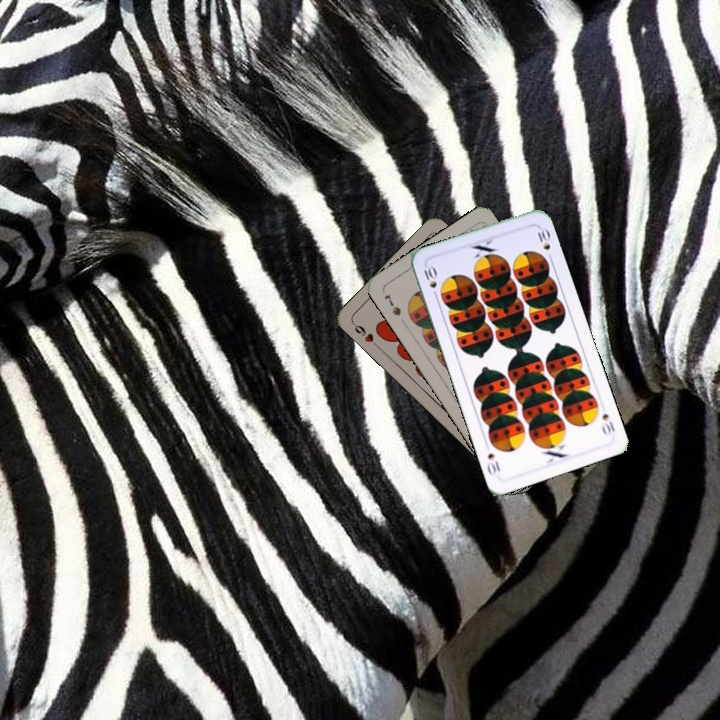H9: (349, 318, 381, 350)
S10: (420, 261, 440, 301), (598, 409, 618, 435)
S7: (380, 290, 404, 319)
